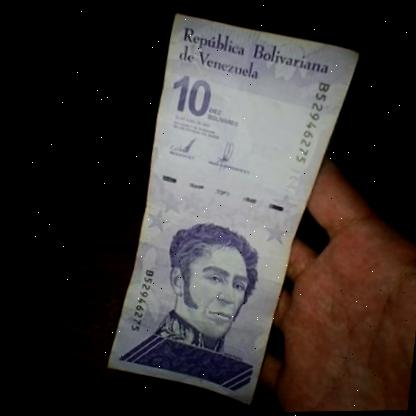ten-front-vef: (87, 5, 374, 415)
